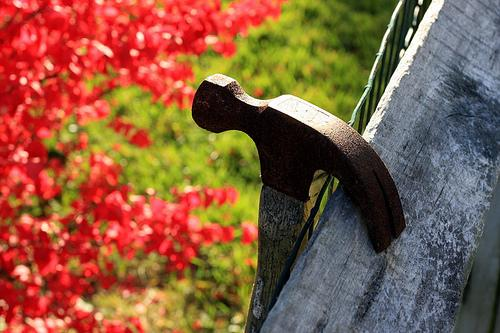hammer: (190, 71, 408, 332)
